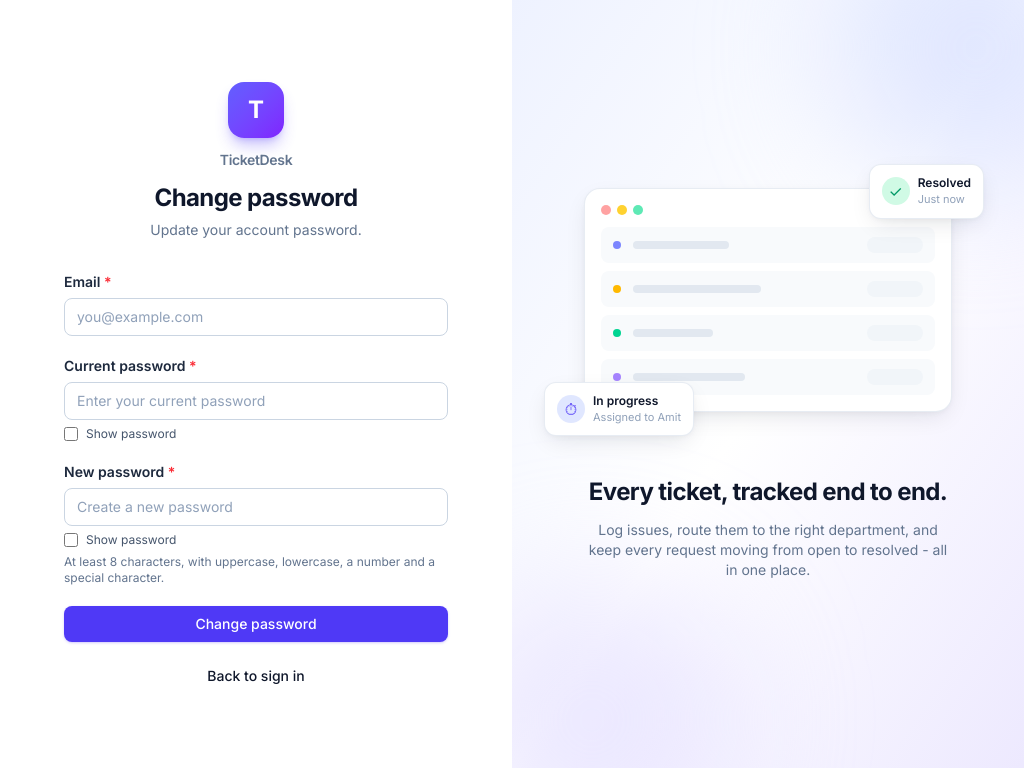
Test case: ChangePasswordPage › rejects a new password identical to the old password
Type "jane@example.com" into the field labelled "Email *".
click(256, 317); type("jane@example.com")  # box [64,298,448,336]
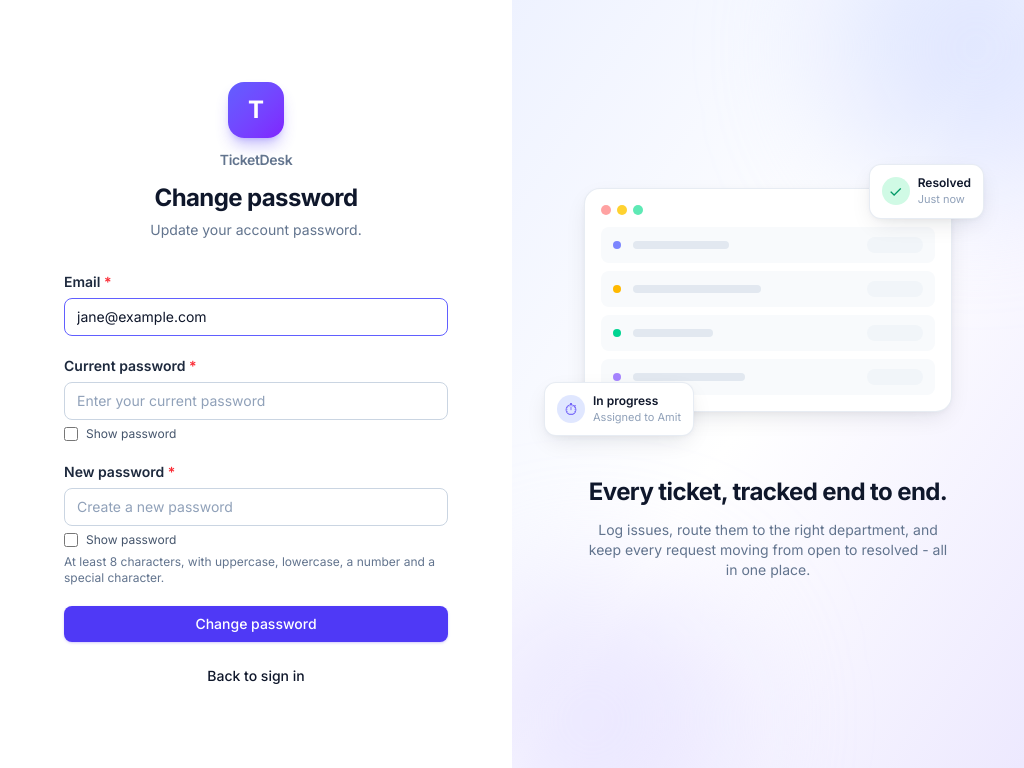
Type "SamePass1!" into the password field labelled "Current password *".
click(256, 401); type("SamePass1!")  # box [64,382,448,420]
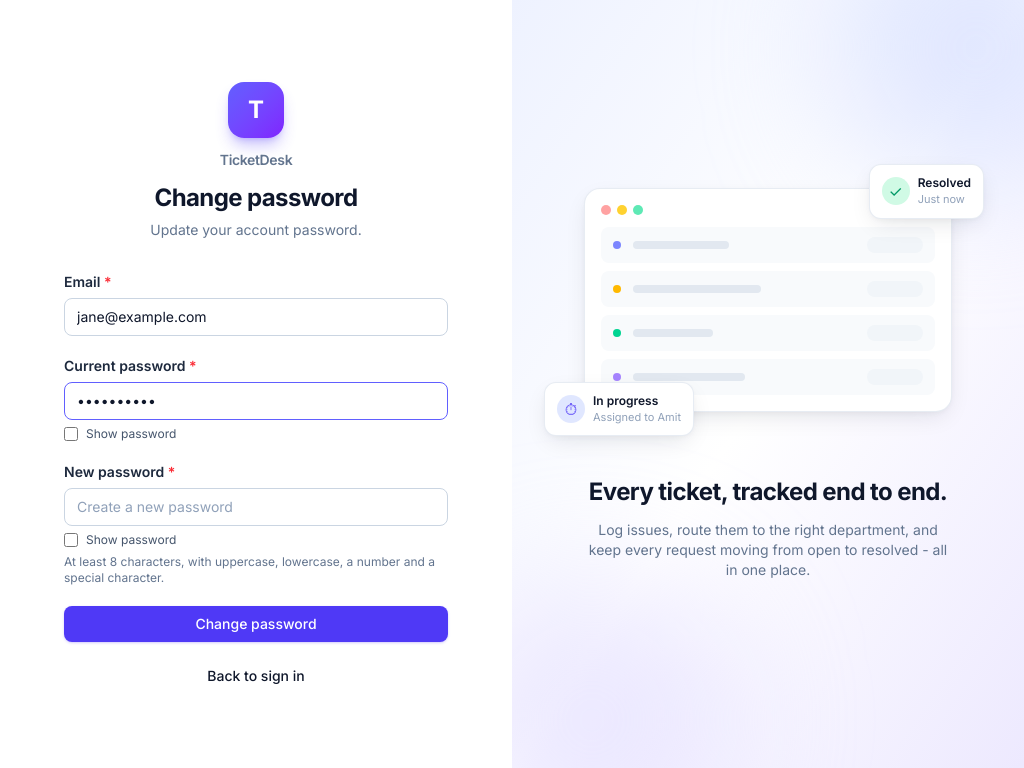
Type "SamePass1!" into the password field labelled "New password *".
click(256, 507); type("SamePass1!")  # box [64,488,448,526]
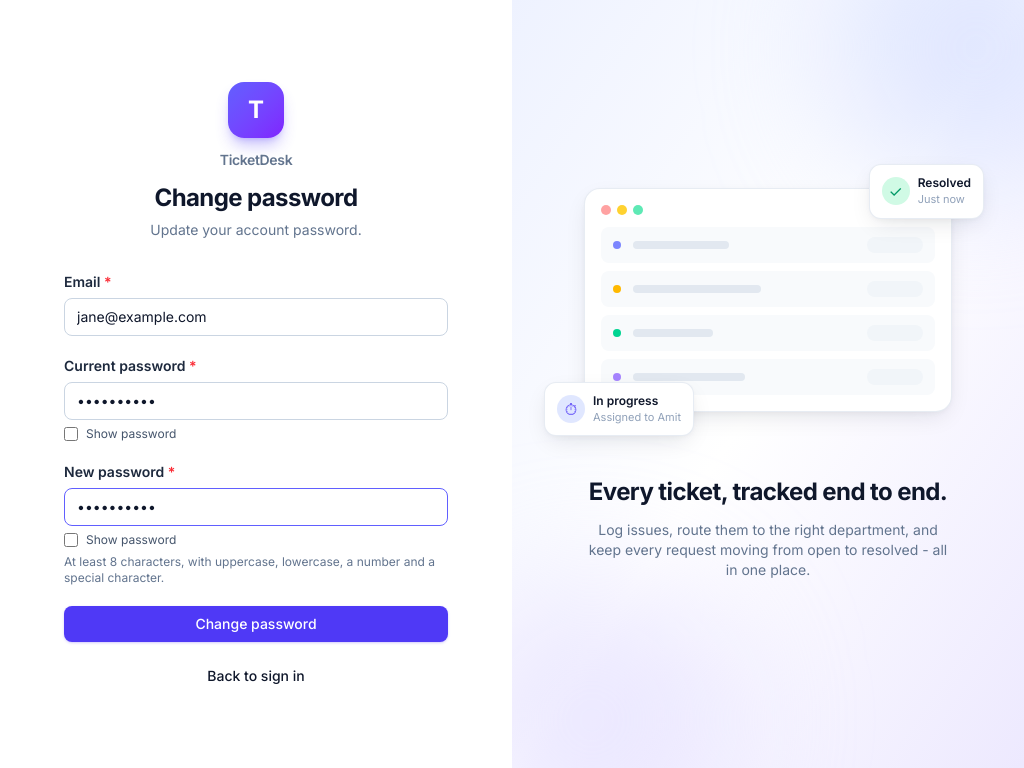
Click the button "Change password".
click(256, 624)  # box [64,606,448,642]
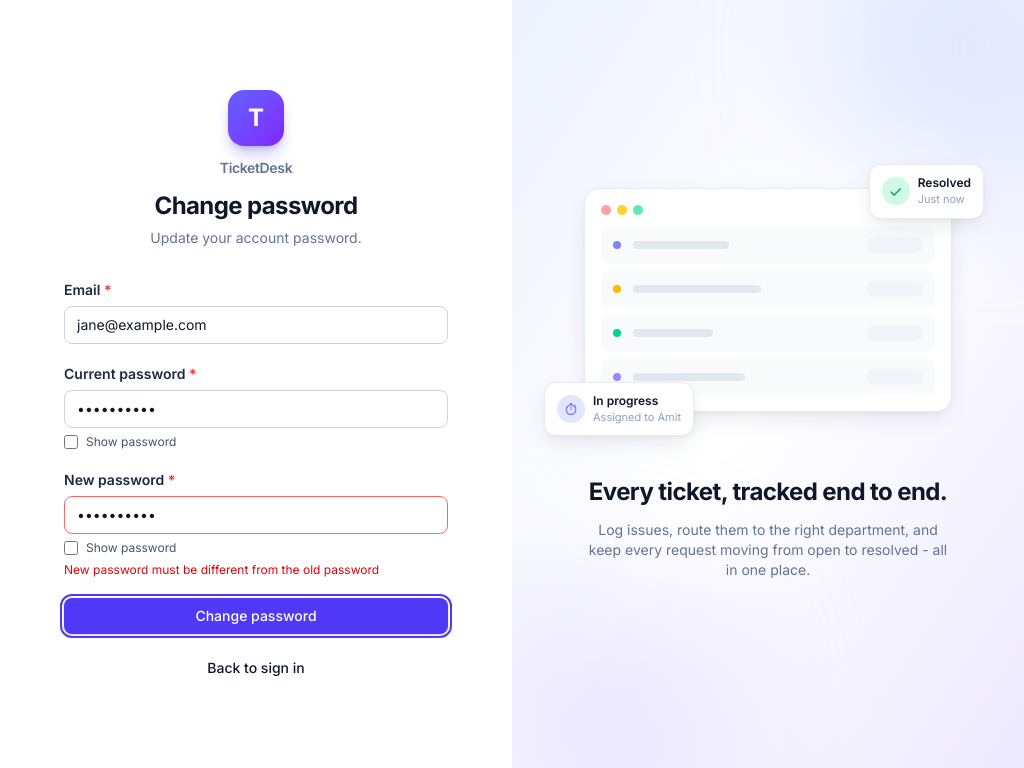
Check: the text "New password must be different from the old password" is shown, box [64,562,379,577]
